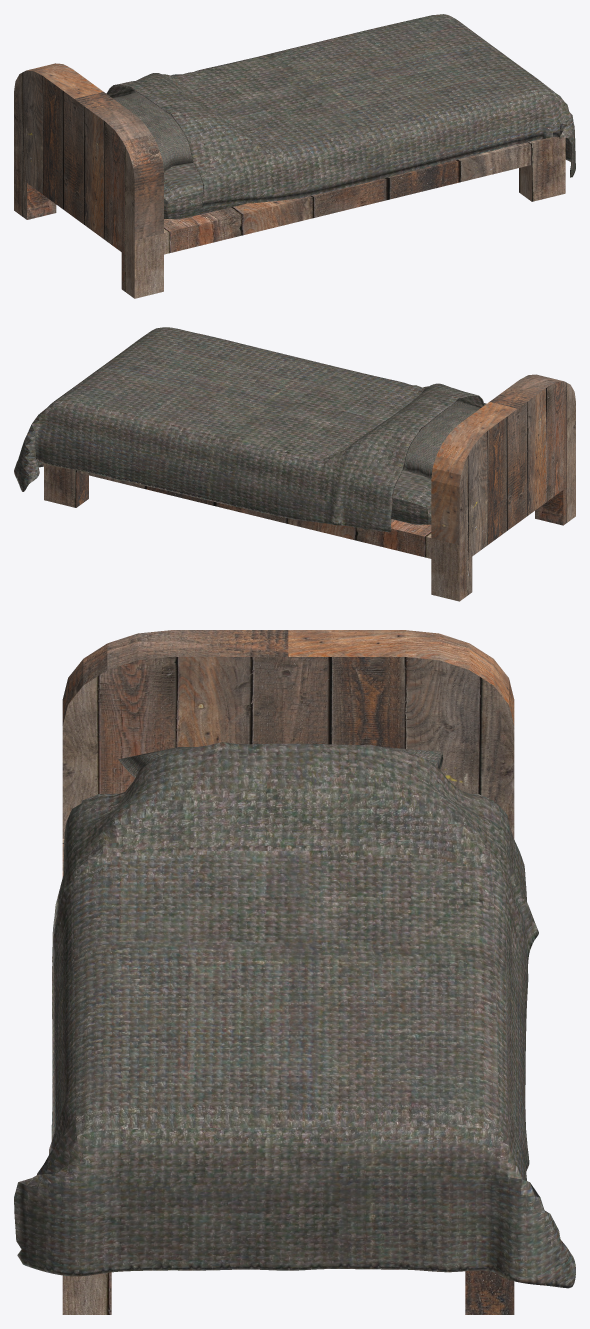
Rendered from Bed.fbx.
3 views of the same model, one above another, from view 1: azimuth 30°, elevation 25°; view 2: azimuth 150°, elevation 25°; view 3: azimuth 270°, elevation 25° (orthographic). The views are drawn at different scales.
Visible parts, largest first — view 1: Object, BED, BED.002, BED.003; view 2: Object, BED, BED.002, BED.003; view 3: Object, BED, BED.002.
Boxes of the visible parts, bbox=[...] form: Object: bbox=[106, 14, 575, 207]; BED: bbox=[14, 63, 565, 298]; BED.002: bbox=[113, 91, 192, 171]; BED.003: bbox=[164, 163, 245, 219]; Object: bbox=[14, 327, 486, 532]; BED: bbox=[44, 374, 575, 601]; BED.002: bbox=[403, 401, 480, 478]; BED.003: bbox=[391, 470, 431, 524]; Object: bbox=[14, 742, 575, 1288]; BED: bbox=[62, 630, 514, 1314]; BED.002: bbox=[118, 747, 443, 777].
Size of the model in its own units: 204 by 66.35 by 116.
2 materials, 2 textured.
